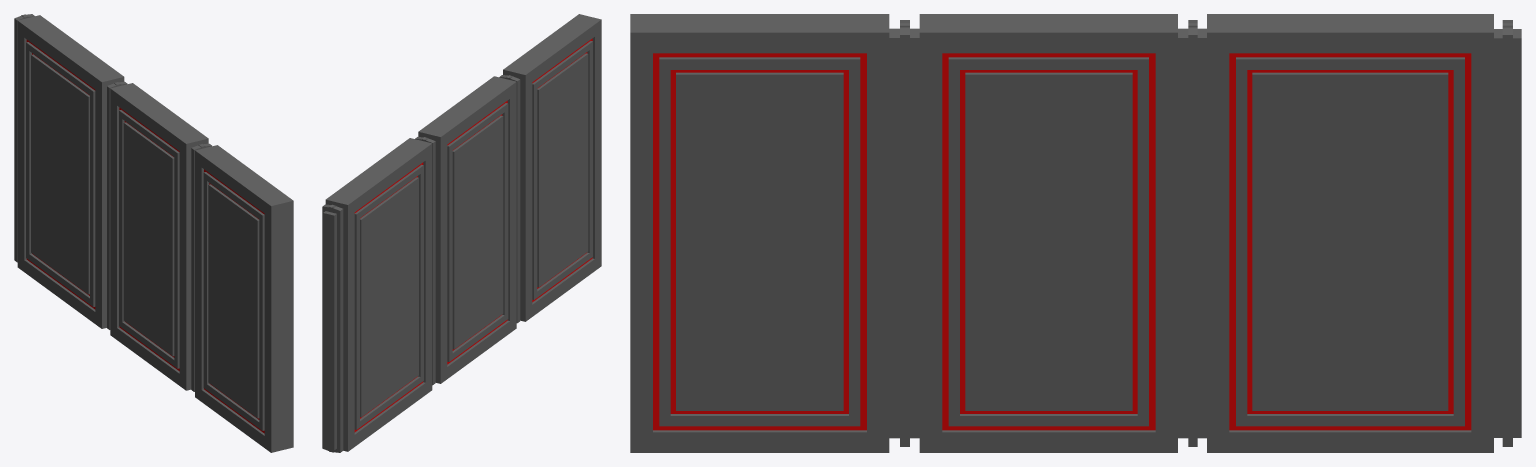
File: wall dubbel.fbx
The picture shows the model from 3 angles, left to right: view 1: azimuth 30°, elevation 25°; view 2: azimuth 150°, elevation 25°; view 3: azimuth 270°, elevation 25°; orthographic projection. The views are drawn at different scales.
Parts seen in each view (by area): view 1: Cube, Cube.001; view 2: Cube, Cube.001; view 3: Cube.001, Cube.
Boxes of the visible parts, x1,y1,x2,y2 form: Cube: [14, 14, 289, 452]; Cube.001: [21, 14, 293, 451]; Cube: [326, 18, 601, 452]; Cube.001: [322, 14, 597, 452]; Cube.001: [630, 17, 1521, 452]; Cube: [630, 14, 1521, 34].
Size of the model in its own units: 57.35 by 602 by 1156.
